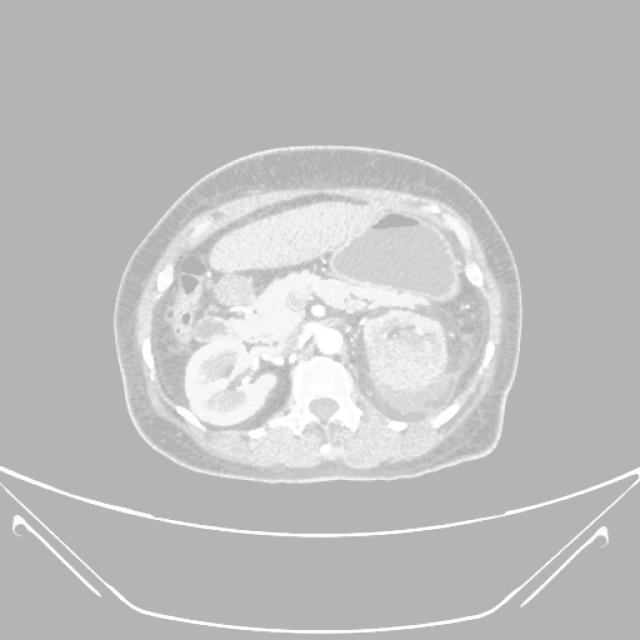TUMOR: (122, 190, 532, 406)
